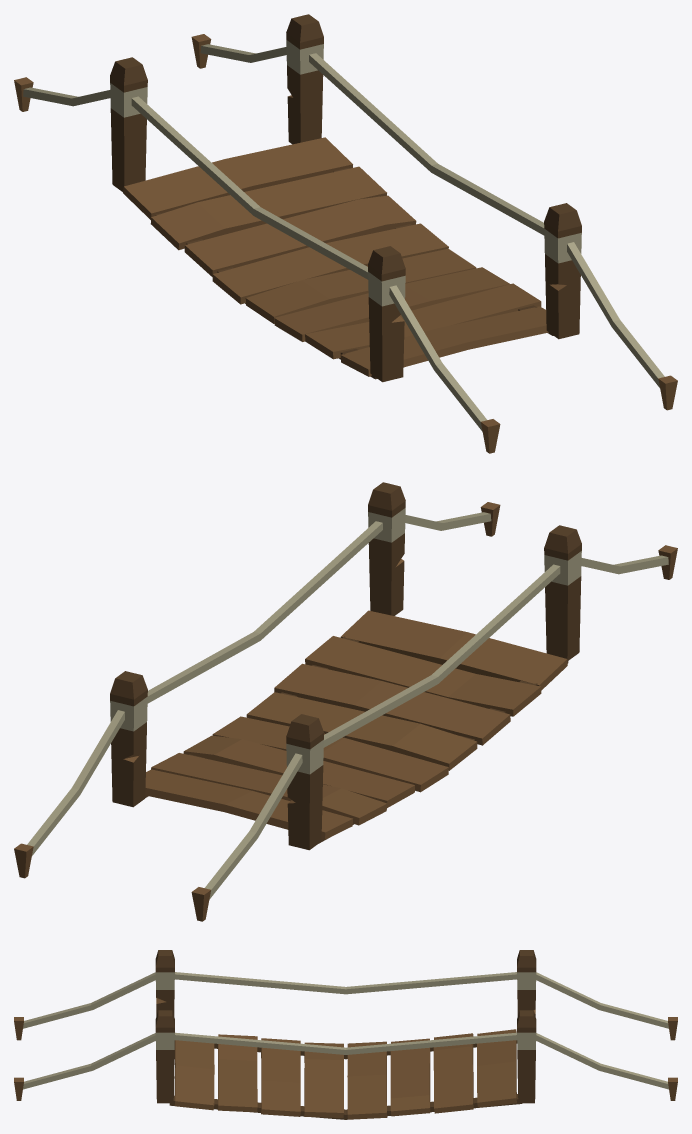
File: Bridge_4_Brown.fbx
3 renders of one model, top to bottom at view 1: azimuth 30°, elevation 25°; view 2: azimuth 150°, elevation 25°; view 3: azimuth 270°, elevation 25°, orthographic. The views are drawn at different scales.
Visible parts, largest first — view 1: Bridge_4_Brown_Part_1, Bridge_4_Brown_Part_3, Bridge_4_Brown_Part_2; view 2: Bridge_4_Brown_Part_1, Bridge_4_Brown_Part_3, Bridge_4_Brown_Part_2; view 3: Bridge_4_Brown_Part_1, Bridge_4_Brown_Part_3, Bridge_4_Brown_Part_2.
Boxes of the visible parts, bbox=[...] form: Bridge_4_Brown_Part_1: bbox=[14, 34, 677, 453]; Bridge_4_Brown_Part_3: bbox=[23, 40, 664, 431]; Bridge_4_Brown_Part_2: bbox=[110, 14, 581, 382]; Bridge_4_Brown_Part_1: bbox=[14, 502, 677, 921]; Bridge_4_Brown_Part_3: bbox=[27, 508, 668, 899]; Bridge_4_Brown_Part_2: bbox=[110, 482, 581, 850]; Bridge_4_Brown_Part_1: bbox=[14, 997, 677, 1119]; Bridge_4_Brown_Part_3: bbox=[23, 972, 668, 1089]; Bridge_4_Brown_Part_2: bbox=[155, 950, 536, 1119].
Size of the model in its own units: 300 by 204 by 1183.
